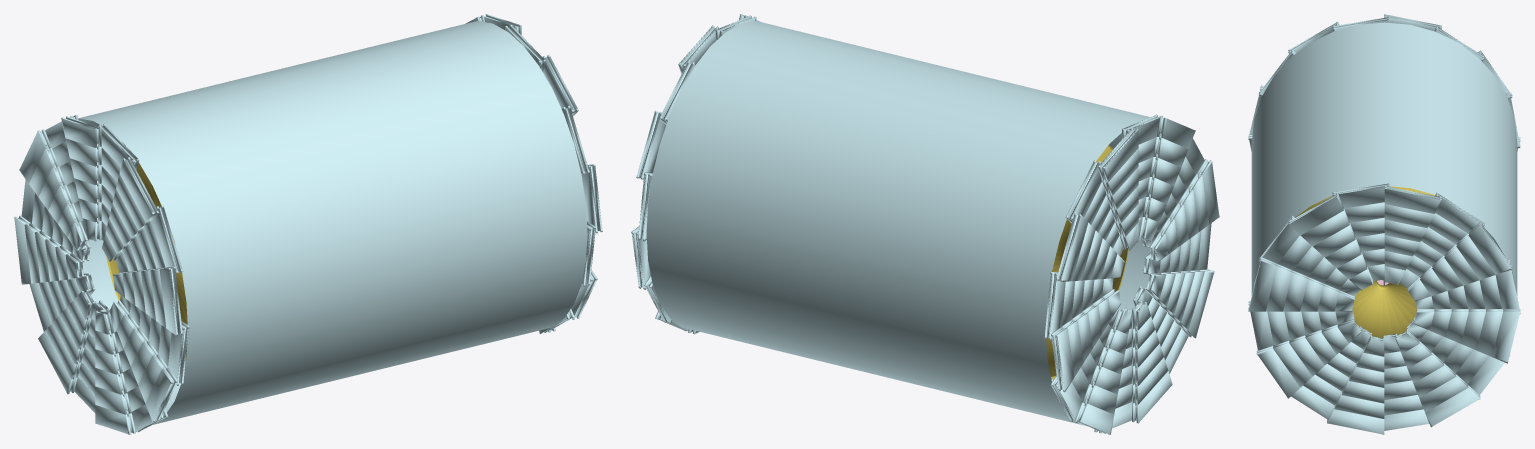
Rendered from LHC_atlas_lite_09.fbx.
3 views of the same model, side by side, from view 1: azimuth 30°, elevation 25°; view 2: azimuth 150°, elevation 25°; view 3: azimuth 270°, elevation 25° (orthographic). The views are drawn at different scales.
Visible parts, largest first — view 1: zone4, zone3; view 2: zone4, zone3; view 3: zone4, zone3.
Part boxes in pixels (<box>): zone4: <box>14,14,602,434</box>; zone3: <box>106,145,187,361</box>; zone4: <box>631,14,1219,434</box>; zone3: <box>1046,145,1128,379</box>; zone4: <box>1248,14,1520,434</box>; zone3: <box>1295,186,1487,338</box>.
Size of the model in its own units: 54.05 by 54.05 by 81.93.
